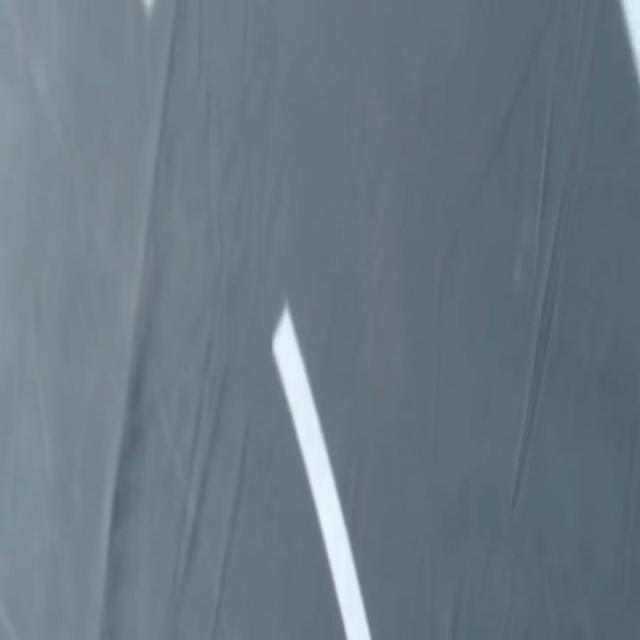center: (272, 304, 371, 639)
right: (620, 0, 639, 83)
